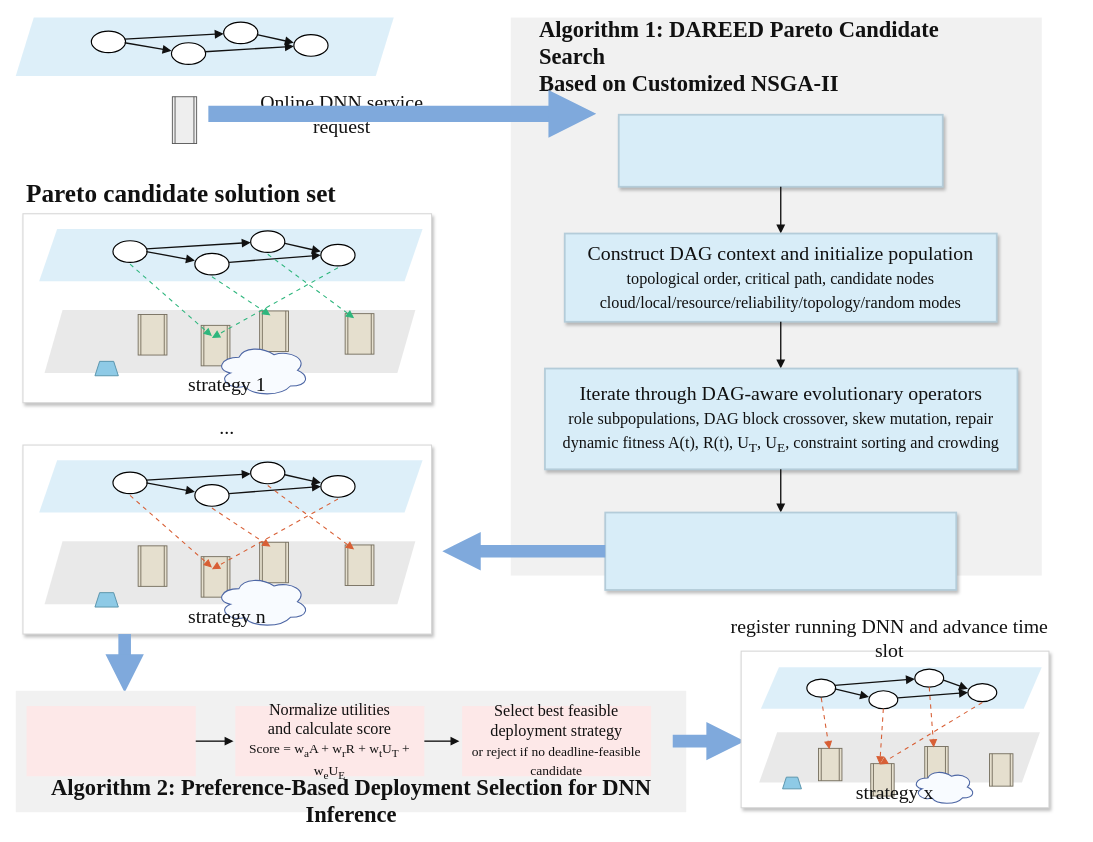
This 1093x842 diagram has some shape labels left out. Each missing label, with the centre of its shape:
"Derive task preference weights accuracy, reliability, delay, energy" goes at [110,741].
"Observe dynamic state load, heat, reliability and bandwidth" goes at [781,152].
"Obtain feasible Pareto candidate set non-dominated deployment schemes" goes at [781,552].
